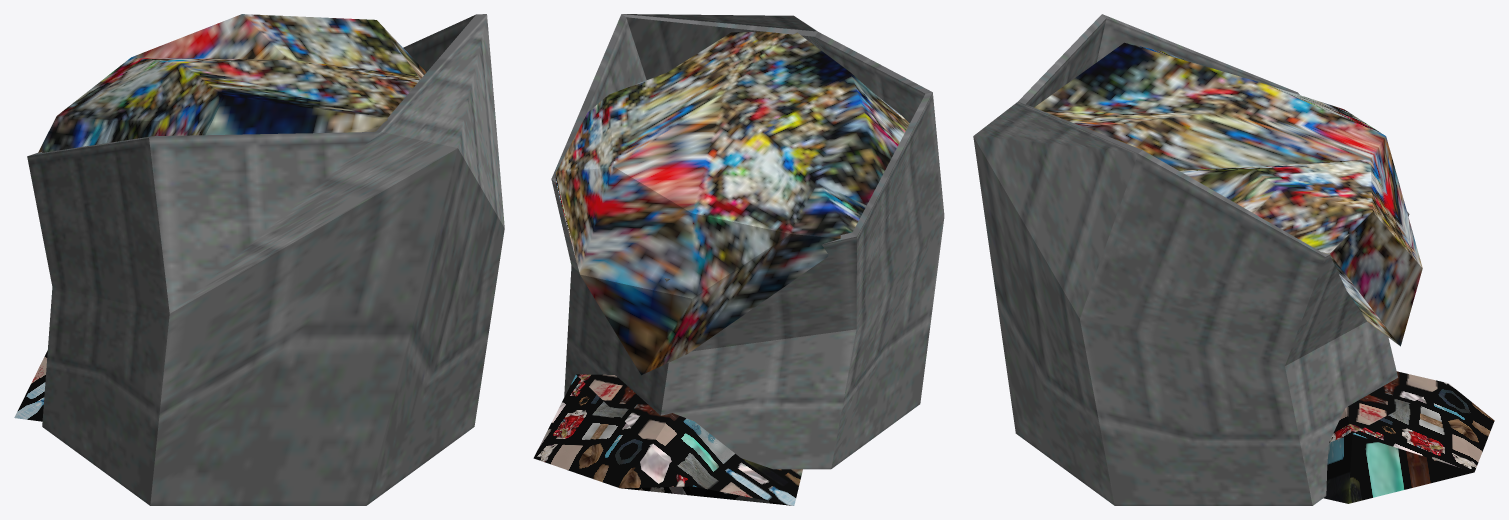
File: Urban_MetaltrashcanBeatenAltOverflowing_Model.fbx
3 views of the same model, side by side, from view 1: azimuth 30°, elevation 25°; view 2: azimuth 150°, elevation 25°; view 3: azimuth 270°, elevation 25° (orthographic). The views are drawn at different scales.
Parts seen in each view (by area): view 1: Urban_MetaltrashcanBeatenAltOverflowing_Mesh; view 2: Urban_MetaltrashcanBeatenAltOverflowing_Mesh; view 3: Urban_MetaltrashcanBeatenAltOverflowing_Mesh.
Part boxes in pixels (x1,y1,x2,y2): Urban_MetaltrashcanBeatenAltOverflowing_Mesh: (14,14,504,505); Urban_MetaltrashcanBeatenAltOverflowing_Mesh: (533,14,944,505); Urban_MetaltrashcanBeatenAltOverflowing_Mesh: (973,14,1494,505).
Bounding box in the file's own units: 0.7592 × 0.8115 × 1.
